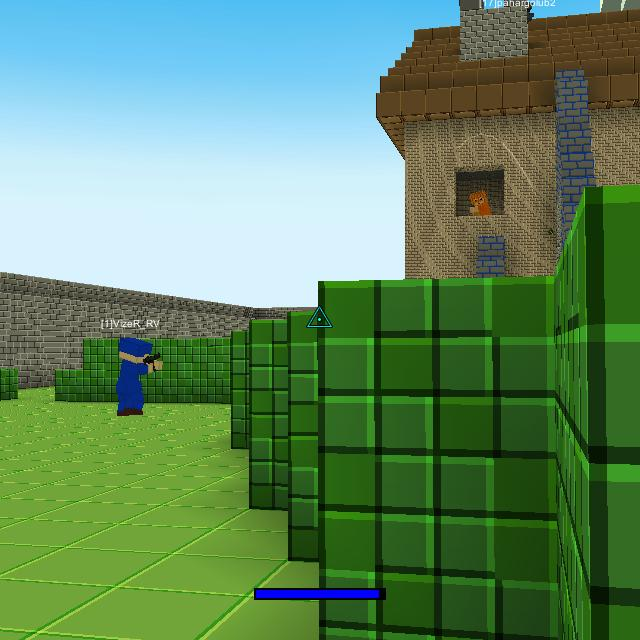enemy: (469, 188, 492, 216)
